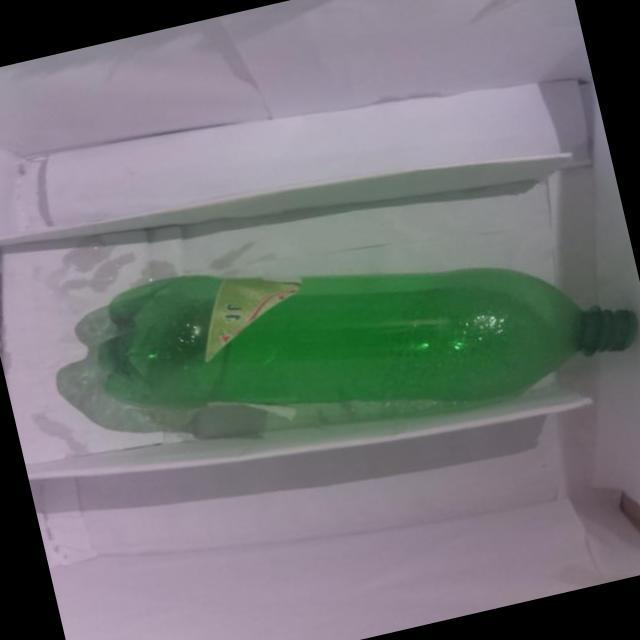good: (80, 166, 640, 497)
